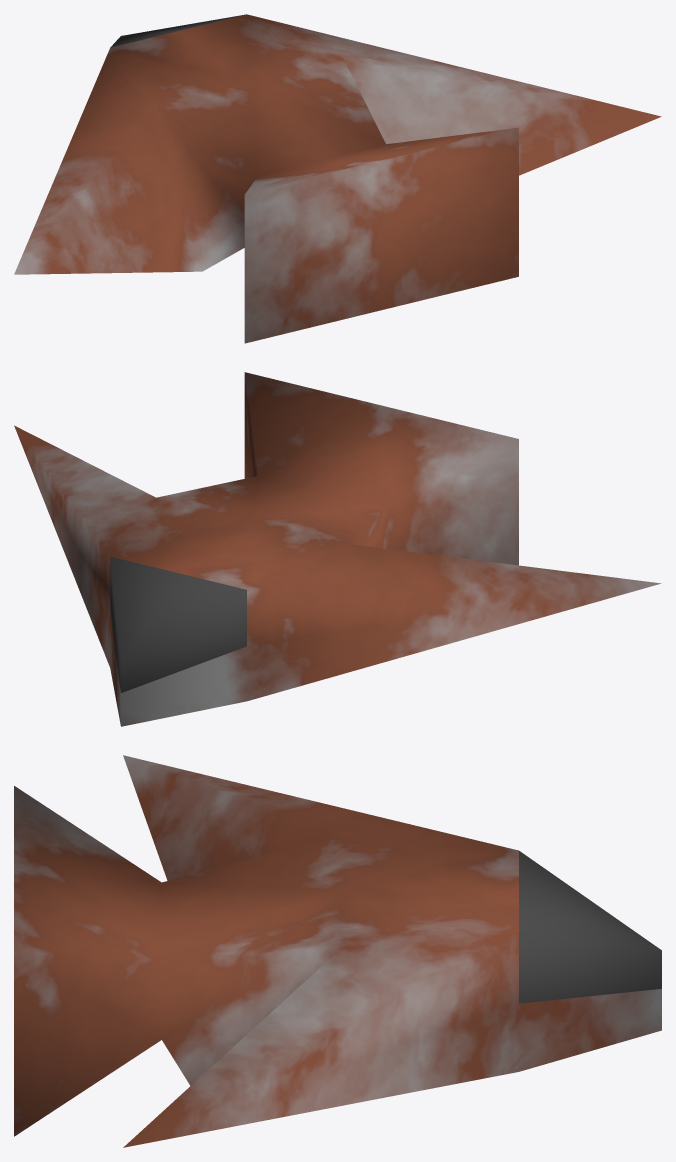
Rendered from PirateSix.fbx.
The picture shows the model from 3 angles, top to bottom: view 1: azimuth 30°, elevation 25°; view 2: azimuth 150°, elevation 25°; view 3: azimuth 270°, elevation 25°; orthographic projection. The views are drawn at different scales.
Visible parts, largest first — view 1: pirate_6; view 2: pirate_6; view 3: pirate_6.
Boxes of the visible parts, x1,y1,x2,y2 form: pirate_6: (14, 14, 661, 343); pirate_6: (14, 372, 661, 726); pirate_6: (14, 755, 661, 1147).
Size of the model in its own units: 3473 by 2422 by 764.
